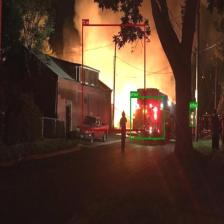fire: (82, 23, 145, 130)
